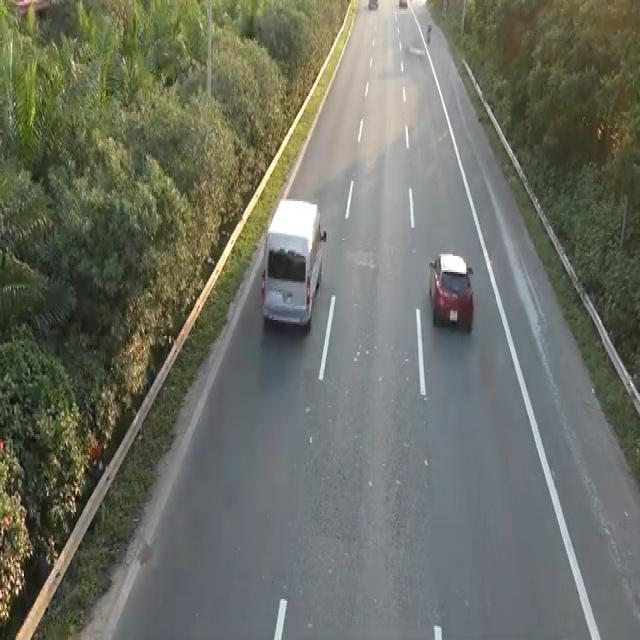bus: (427, 249, 475, 332)
jeep: (258, 194, 327, 332)
